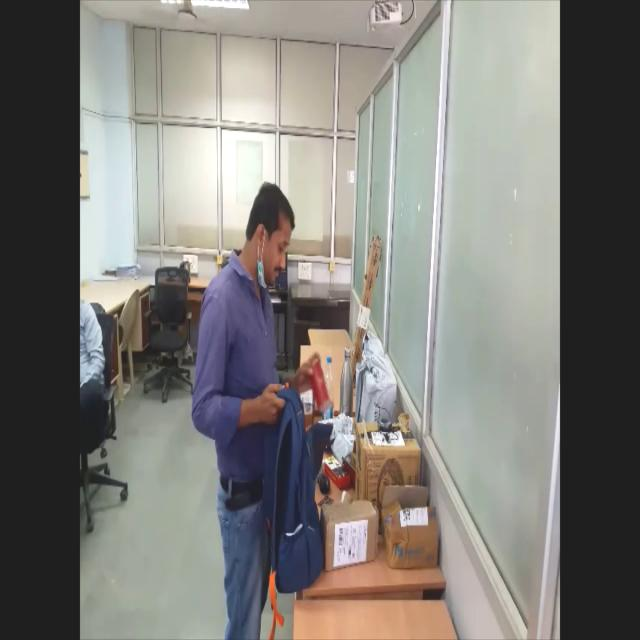shoplifting: (189, 179, 324, 638)
